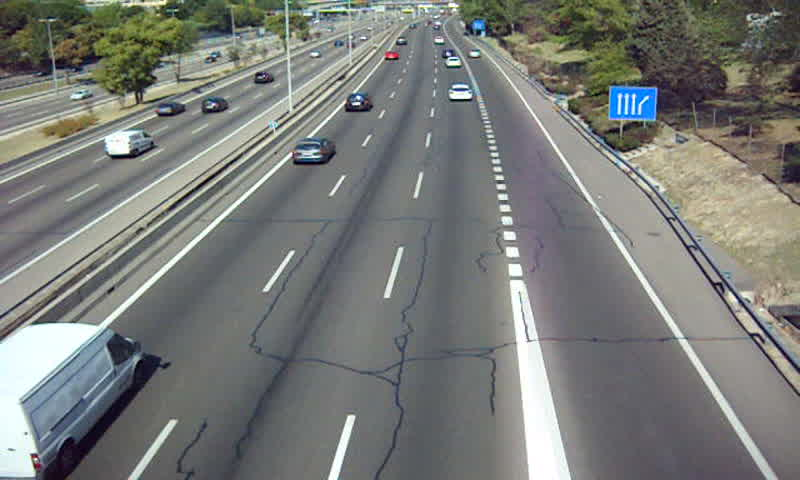car: (293, 138, 336, 163), (344, 92, 371, 112), (446, 83, 474, 102), (444, 56, 464, 68), (383, 51, 401, 62)
van: (1, 323, 142, 480)
